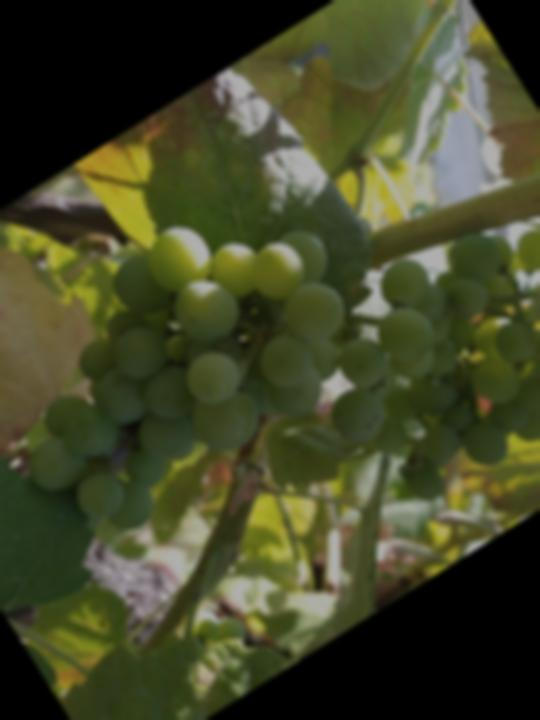grape: (0, 157, 428, 606)
